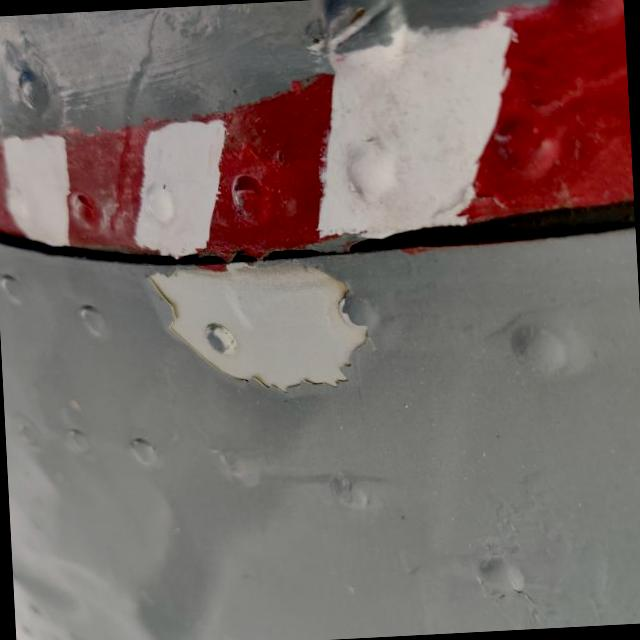paint-off: (121, 224, 402, 422)
